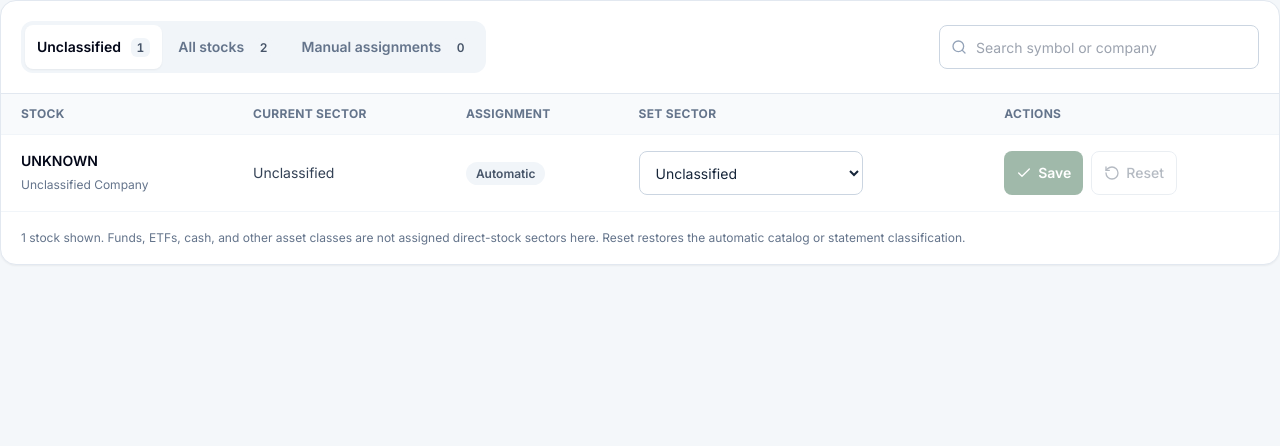
Scenario: sector management › starts with unclassified stocks, saves a global override, and restores automatic classification
Check: the text "UNKNOWN" is shown, box [21,152,98,169]
Select "Industrials" in the dropdown named "Sector for UNKNOWN": (750,173) [638,151,862,195]
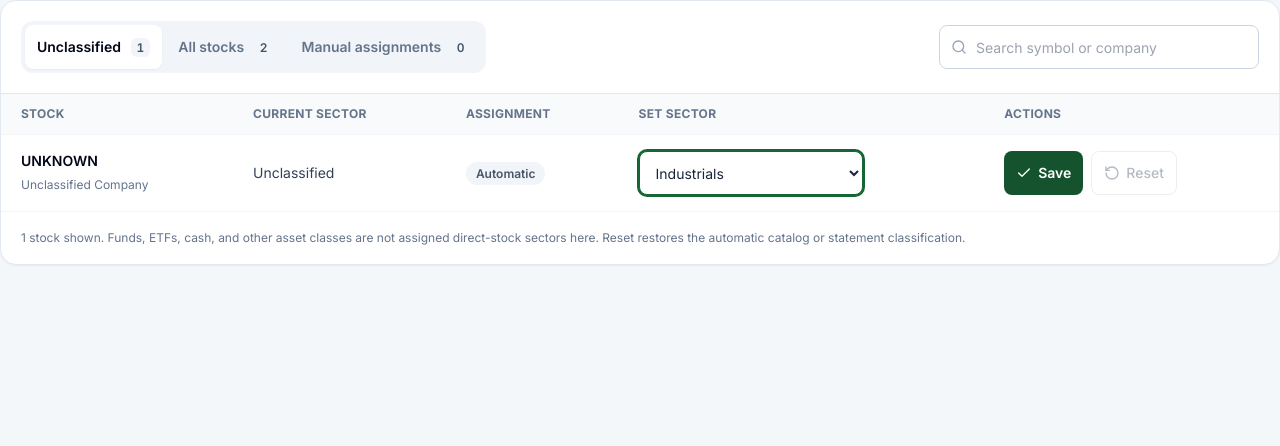
Click the button with aria-label "Save sector for UNKNOWN": (1044,173) [1004,151,1083,195]
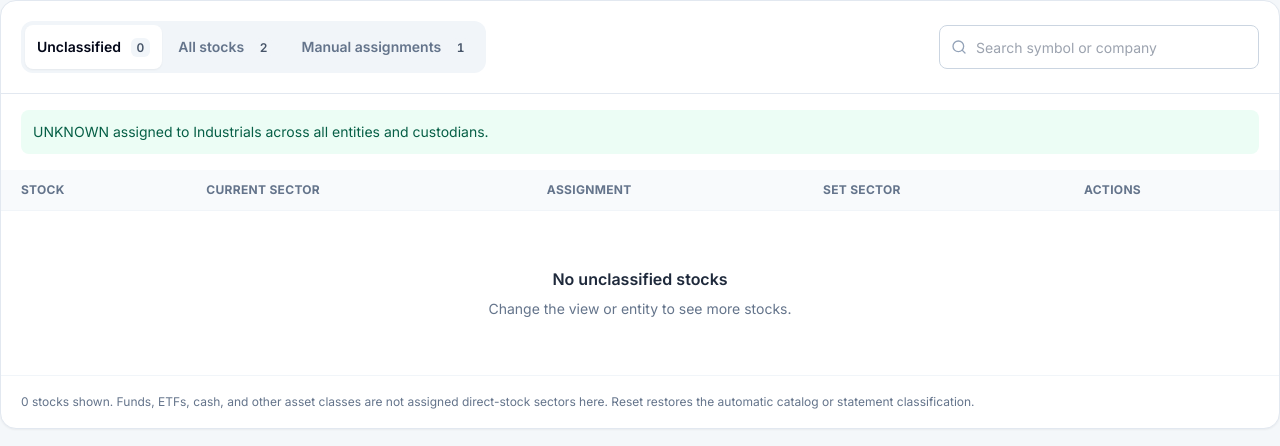
Check: the text "UNKNOWN assigned to Industrials across all entities and custodians." is shown, box [21,110,1259,154]
Check: the heading "No unclassified stocks" is shown, box [552,269,728,289]
Click the button "Manual assignments 1": (386,47) [290,25,482,69]
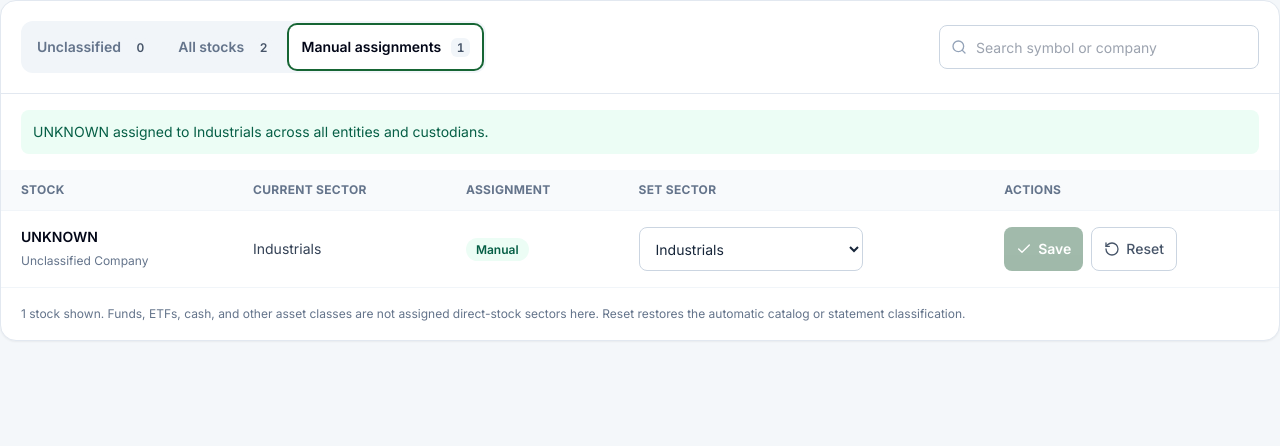
Check: the text "UNKNOWN" is shown, box [21,228,98,245]
Check: the text "Manual" is shown, box [466,238,529,261]
Click the button with aria-label "Reset UNKNOWN to automatic": (1134,249) [1091,227,1177,271]
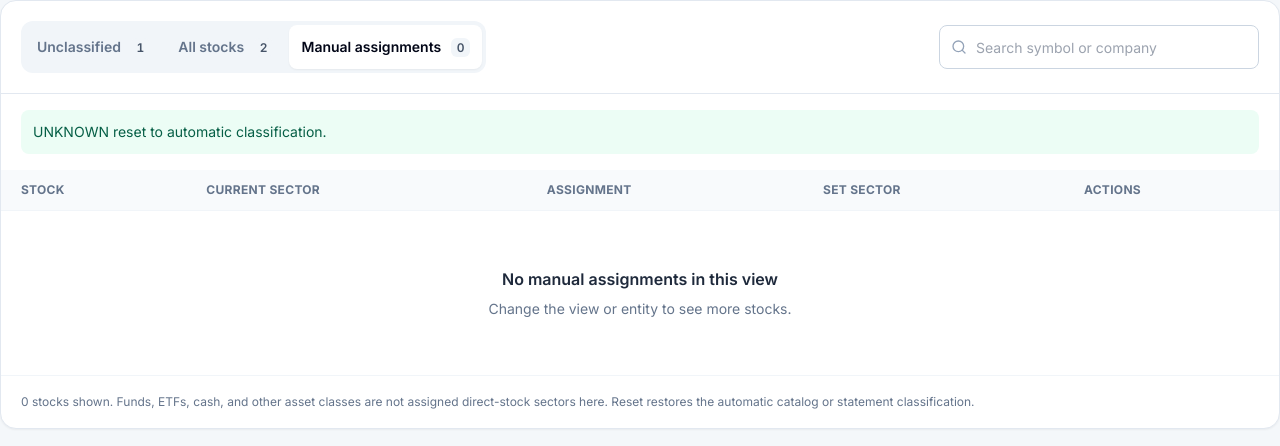
Check: the text "UNKNOWN reset to automatic classification." is shown, box [21,110,1259,154]
Click the button "Unclassified 1": (94,47) [25,25,162,69]
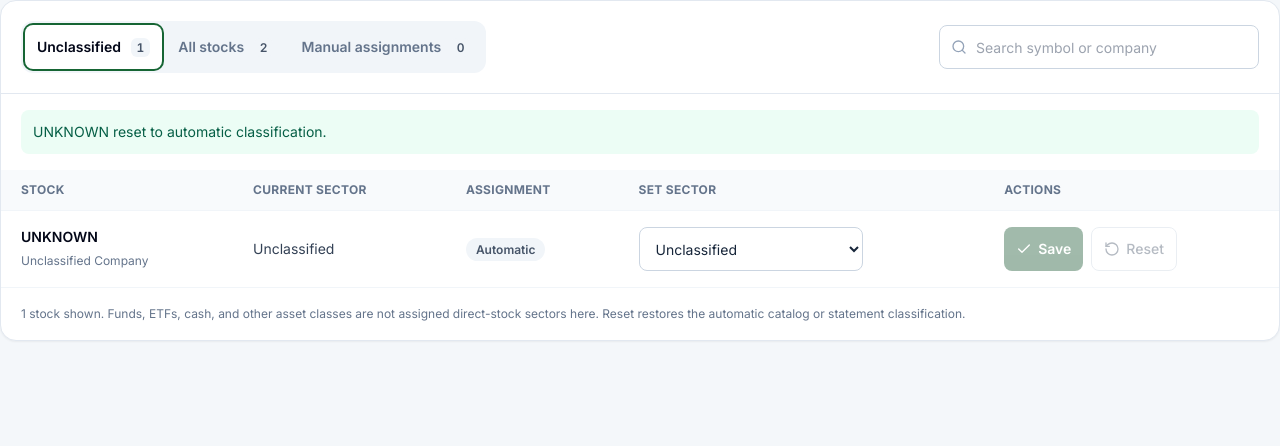
Check: the text "UNKNOWN" is shown, box [21,228,98,245]
